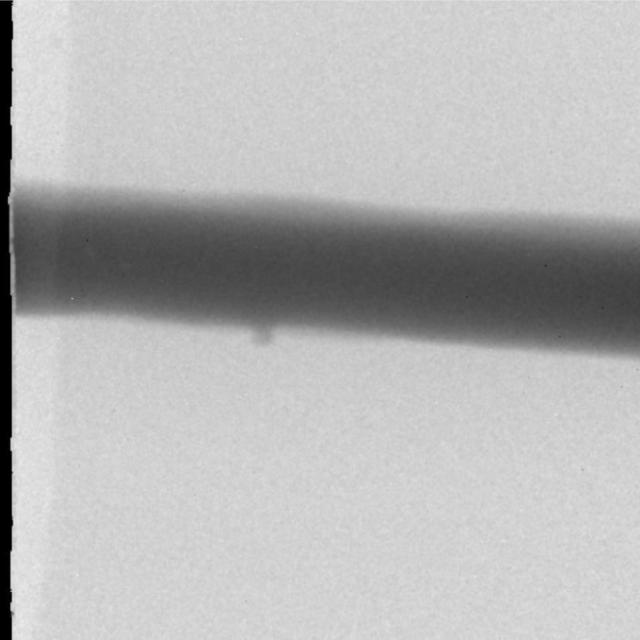overlap: (250, 320, 278, 347)
